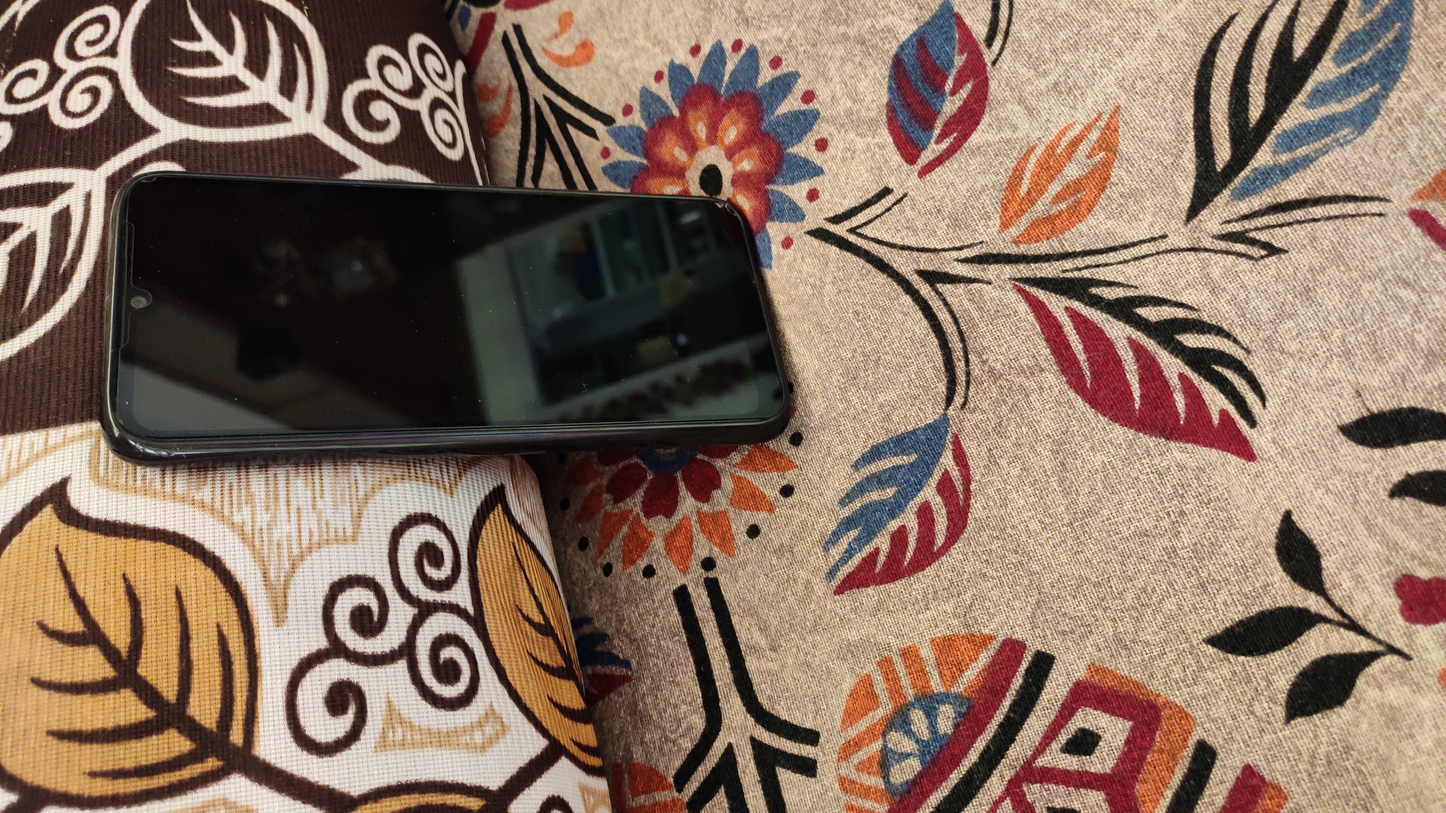Electronics: (87, 145, 813, 490)
